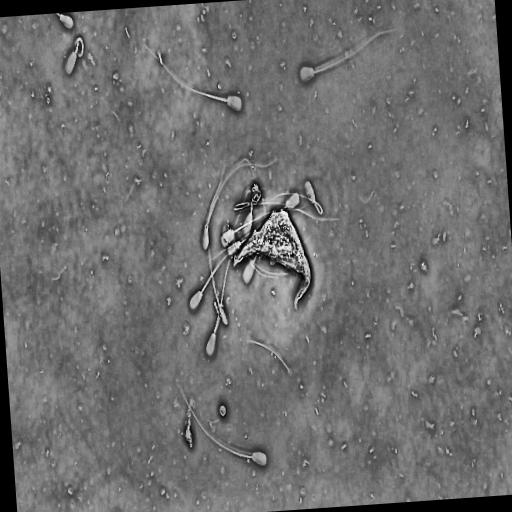coiled-tail: (75, 37, 84, 57), (78, 41, 82, 53)
dirt-particles: (229, 201, 316, 312), (182, 413, 198, 452), (214, 399, 231, 425), (250, 180, 263, 205)
folded-tail: (268, 193, 323, 214), (315, 203, 321, 213)
loose-tail: (243, 336, 292, 377)
normal: (173, 374, 269, 471), (201, 156, 280, 254), (142, 41, 244, 114), (296, 26, 399, 85), (189, 240, 247, 311), (221, 203, 309, 248), (207, 172, 229, 328), (204, 250, 236, 357), (266, 179, 324, 214), (63, 34, 86, 77)
